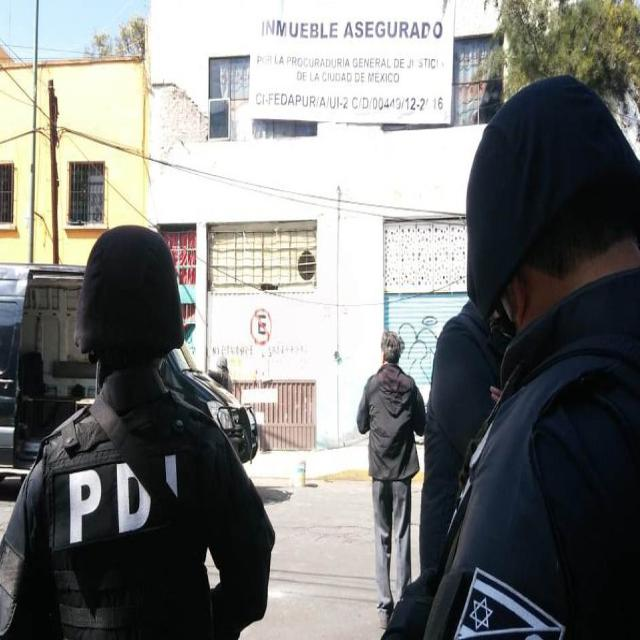stamps: (253, 5, 452, 123)
